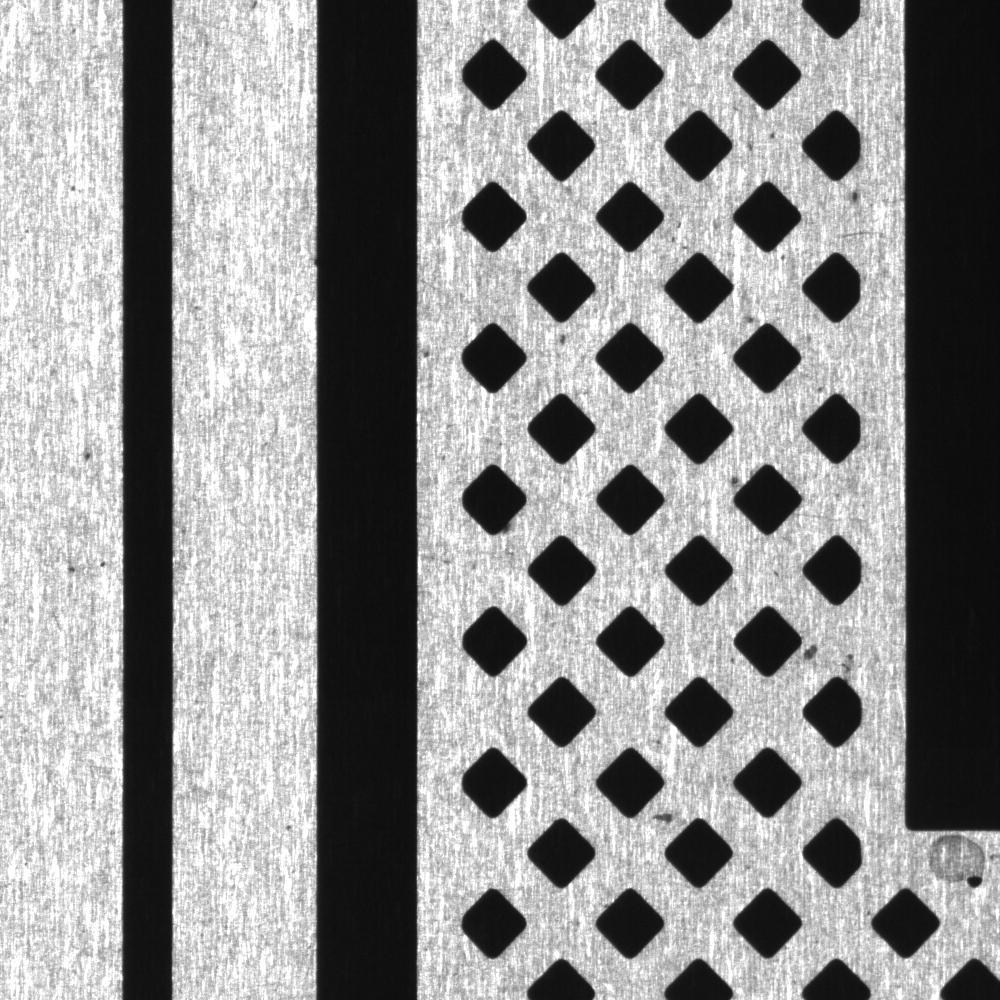Discolor: (904, 833, 1000, 888)
Etching: (801, 642, 862, 678), (53, 552, 114, 575), (643, 805, 686, 829), (842, 183, 875, 211)
Pinhole: (72, 438, 106, 471), (62, 176, 85, 202)
